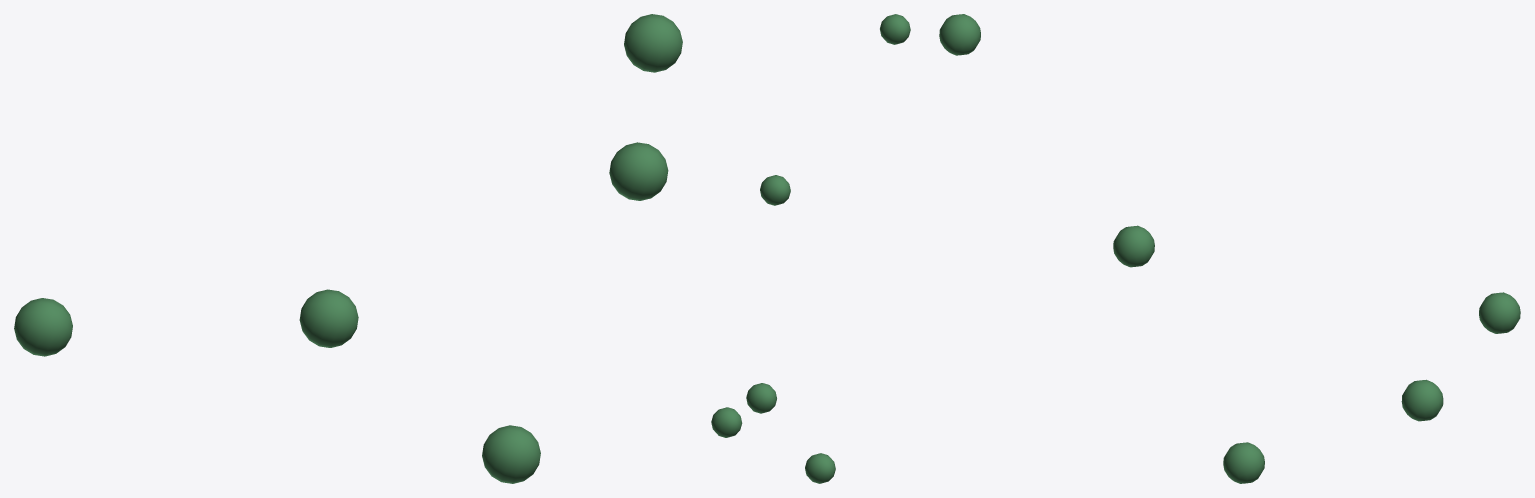
3 renders of one model, left to right at view 1: azimuth 30°, elevation 25°; view 2: azimuth 150°, elevation 25°; view 3: azimuth 270°, elevation 25°, orthographic. The views are drawn at different scales.
Visible parts, largest first — view 1: 胃右淋巴结; view 2: 胃右淋巴结; view 3: 胃右淋巴结.
Part boxes in pixels (x1,y1,x2,y2): 胃右淋巴结: (14, 14, 682, 483); 胃右淋巴结: (711, 14, 910, 483); 胃右淋巴结: (939, 14, 1520, 483).
Bounding box in the file's own units: 0.0293 × 0.0445 × 0.0525.
